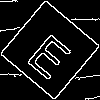E: (25, 25, 80, 81)
